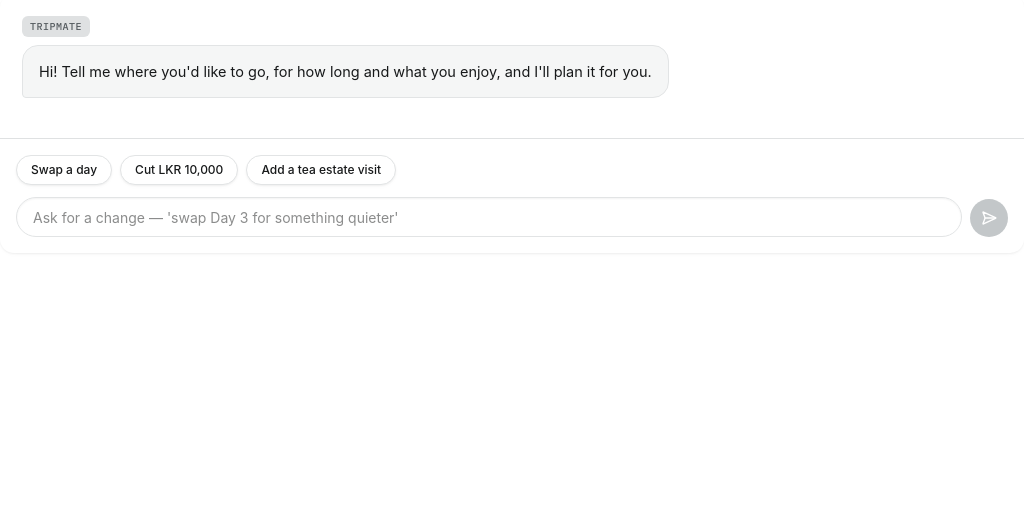
Scenario: ChatPanel › when the request fails › keeps the user's message, shows the error with Retry, and re-enables the input
This screenshot has width=1024, height=512.
Type "Plan my trip" into the text box named "Message".
click(489, 218); type("Plan my trip")  # box [16,198,962,238]
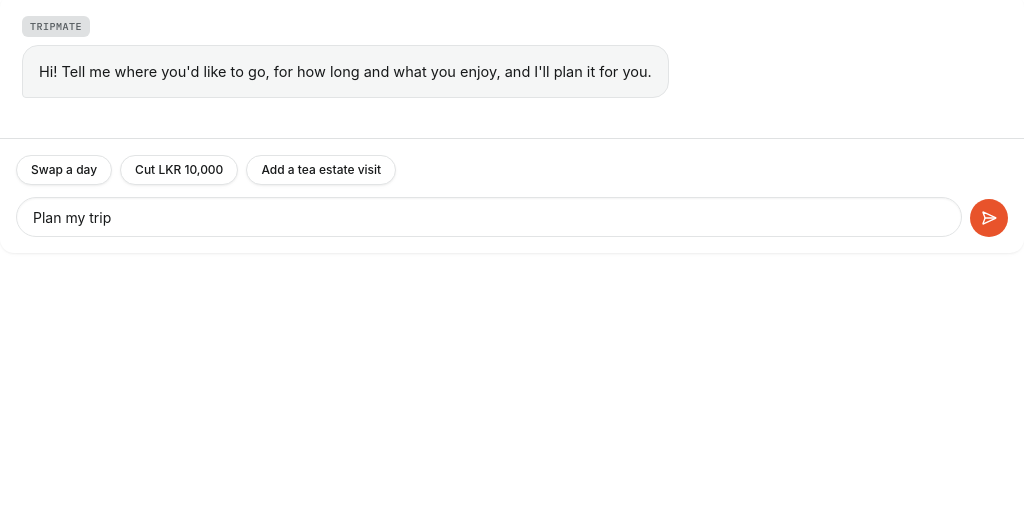
Press Enter in the text box named "Message", box [16,198,962,238]
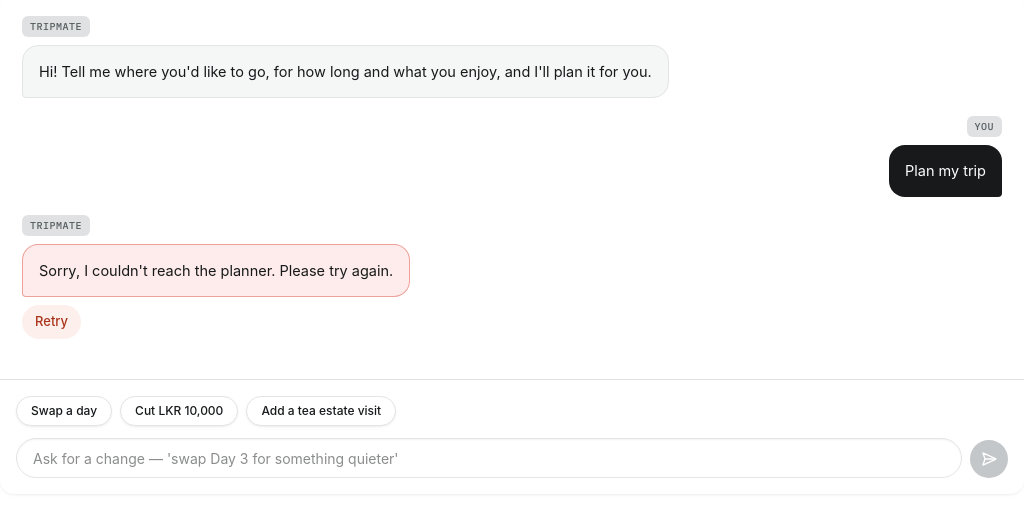
expect the text "Plan my trip" is shown: met, box [905,160,986,183]
expect the text "Sorry, I couldn't reach the planner. Please try again." is shown: met, box [39,259,393,282]
expect the button "Retry" is shown: met, box [22,306,81,339]
Type "another" into the text box named "Message".
click(489, 458); type("another")  # box [16,438,962,478]
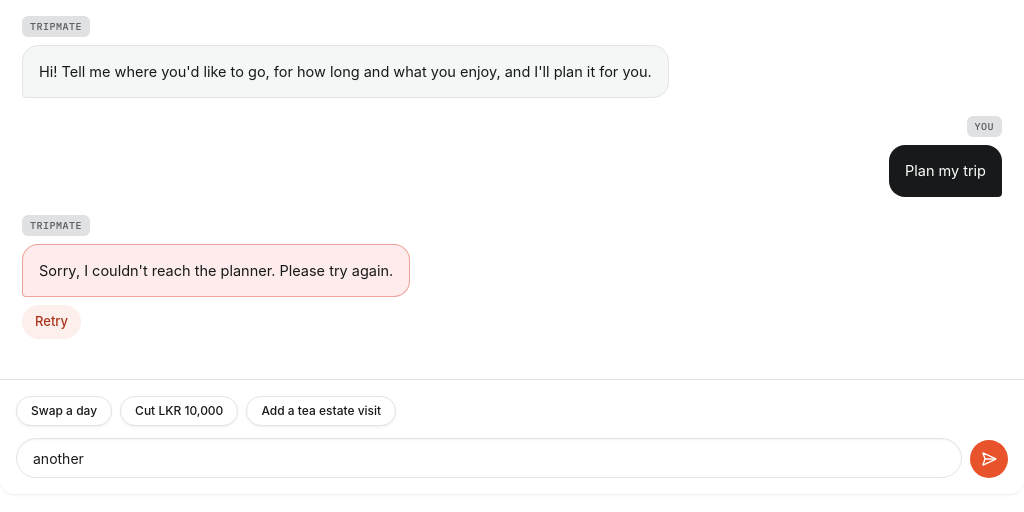
expect the button named "Send message" is enabled: met, box [970,440,1008,478]
